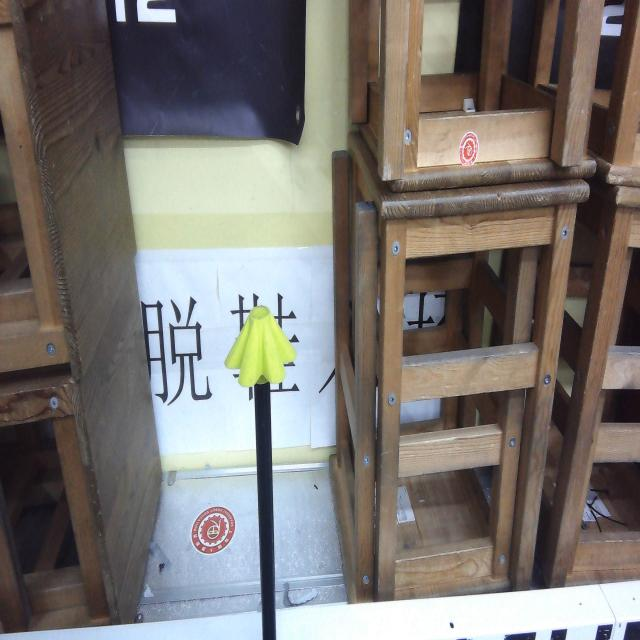Yellow-Stake-Head: (225, 306, 296, 388)
